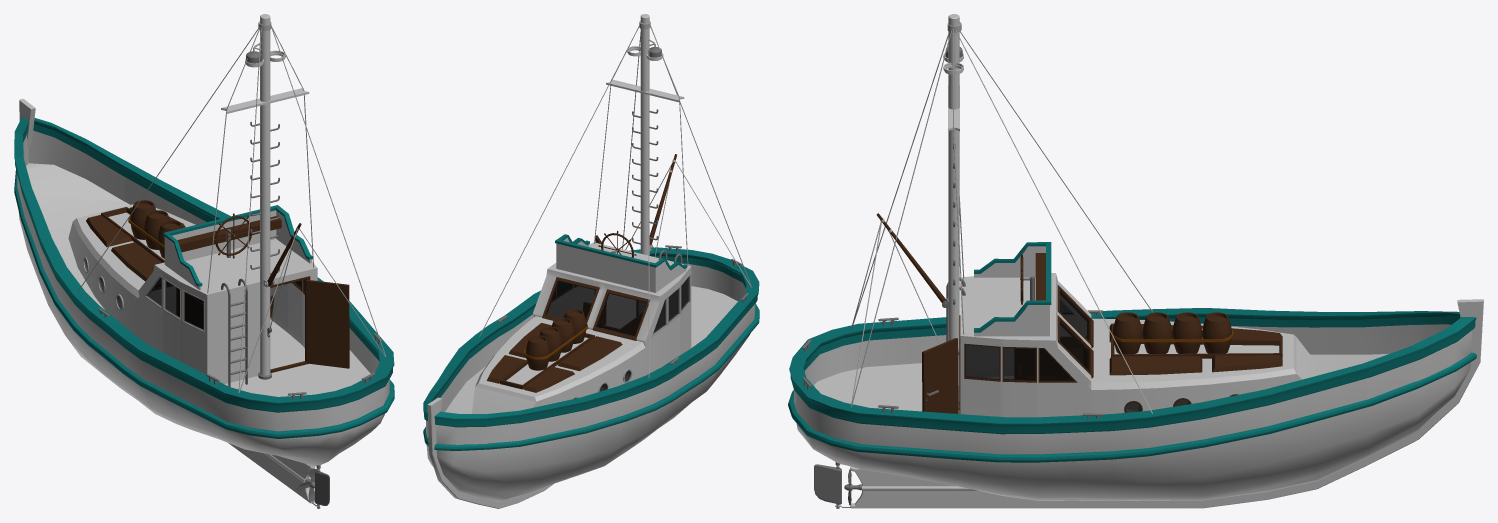
File: Ship.fbx
The picture shows the model from 3 angles, left to right: view 1: azimuth 30°, elevation 25°; view 2: azimuth 150°, elevation 25°; view 3: azimuth 270°, elevation 25°; orthographic projection. The views are drawn at different scales.
Parts seen in each view (by area): view 1: polySurface3, pCube23, polySurface2, polySurface1, pCylinder30, polySurface96, polySurface34, pCube27, pCube6, polySurface35, pCube51, pCylinder49 (+15 smaller); view 2: polySurface3, pCube23, polySurface2, polySurface34, pCube27, polySurface1, pCylinder30, pCube9, polySurface7, polySurface5, polySurface35, pCylinder73 (+10 smaller); view 3: polySurface3, pCube23, polySurface2, polySurface1, pCube9, pCube6, pCylinder30, pCube27, polySurface34, polySurface96, pCube44, polySurface74 (+8 smaller).
Part boxes in pixels (x1,y1,x2,y2): polySurface3: [17, 130, 389, 466]; pCube23: [68, 204, 317, 383]; polySurface2: [14, 116, 394, 412]; polySurface1: [14, 169, 394, 438]; pCylinder30: [260, 14, 270, 375]; polySurface96: [306, 279, 349, 368]; polySurface34: [164, 210, 311, 290]; pCube27: [86, 207, 185, 281]; pCube6: [228, 443, 314, 503]; polySurface35: [163, 205, 312, 286]; pCube51: [177, 216, 281, 252]; pCylinder49: [221, 278, 247, 386]; polySurface3: [426, 263, 755, 502]; pCube23: [472, 242, 691, 413]; polySurface2: [423, 247, 759, 427]; polySurface34: [556, 237, 686, 292]; pCube27: [486, 323, 622, 392]; polySurface1: [423, 303, 759, 450]; pCylinder30: [640, 14, 649, 255]; pCube9: [427, 397, 553, 508]; polySurface7: [593, 293, 646, 340]; polySurface5: [543, 280, 596, 320]; polySurface35: [555, 234, 687, 270]; pCylinder73: [525, 335, 550, 370]; polySurface3: [794, 324, 1471, 500]; pCube23: [960, 273, 1322, 417]; polySurface2: [789, 308, 1476, 434]; polySurface1: [788, 352, 1476, 462]; pCube9: [1037, 299, 1483, 508]; pCube6: [850, 466, 1037, 508]; pCylinder30: [948, 14, 959, 405]; pCube27: [1109, 323, 1282, 375]; polySurface34: [974, 246, 1049, 336]; polySurface96: [922, 338, 959, 413]; pCube44: [1014, 337, 1086, 379]; polySurface74: [965, 345, 999, 380].
Bounding box in the file's own units: 17.2 × 35.59 × 45.56.
